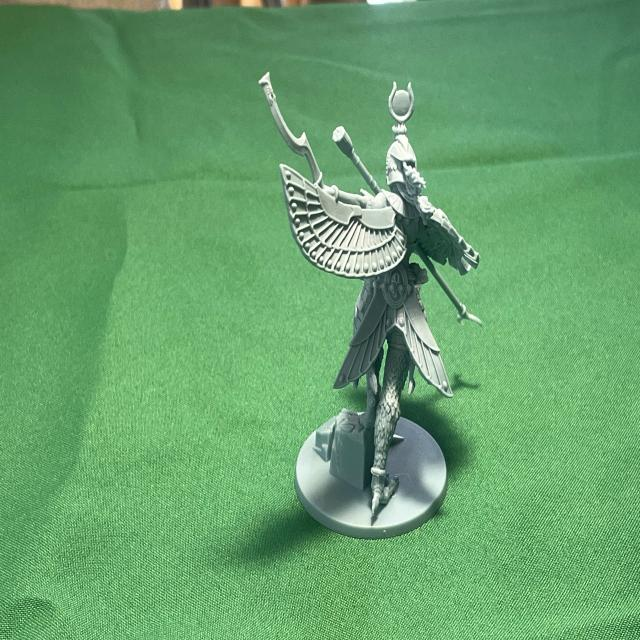isis: (239, 52, 504, 563)
